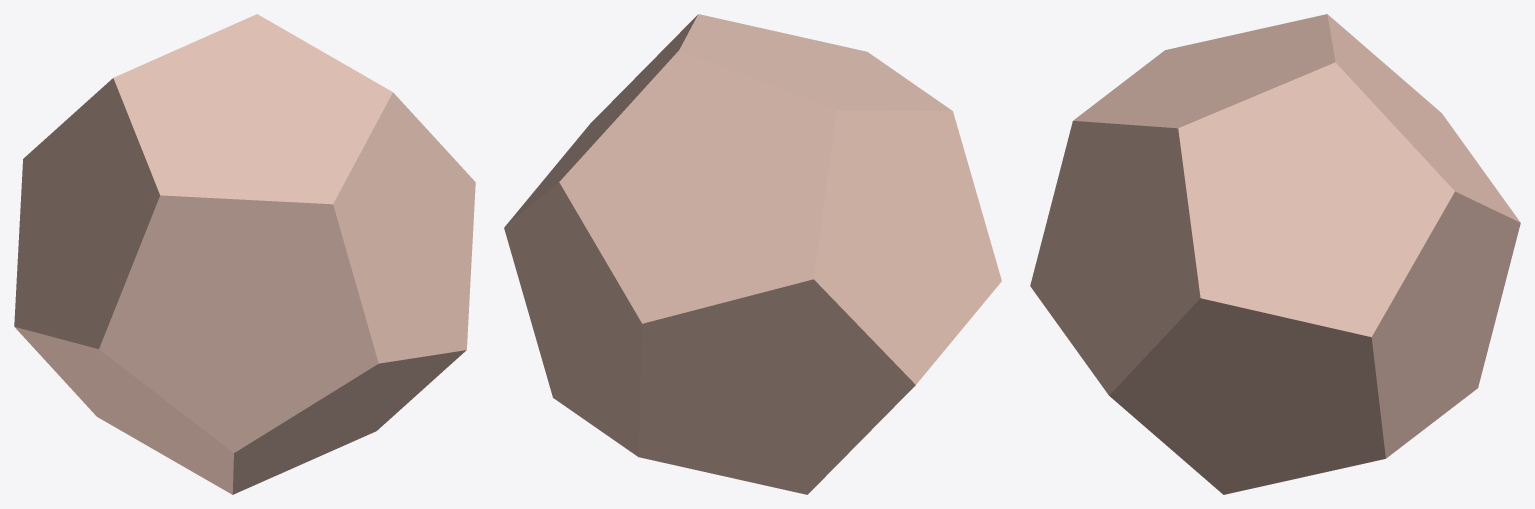
The model's file is platonic-dodecahedron.glb.
3 renders of one model, left to right at view 1: azimuth 30°, elevation 25°; view 2: azimuth 150°, elevation 25°; view 3: azimuth 270°, elevation 25°, orthographic. The views are drawn at different scales.
Visible parts, largest first — view 1: Dodecahedron; view 2: Dodecahedron; view 3: Dodecahedron.
Boxes of the visible parts, <box> form: Dodecahedron: <box>14,14,475,494</box>; Dodecahedron: <box>504,14,1001,494</box>; Dodecahedron: <box>1030,14,1520,494</box>.
Size of the model in its own units: 1.63 by 1.67 by 1.75.
